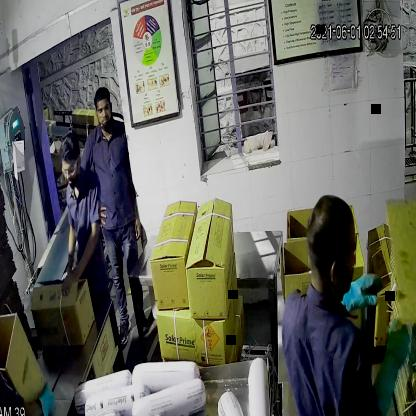goggles: (59, 156, 85, 180)
